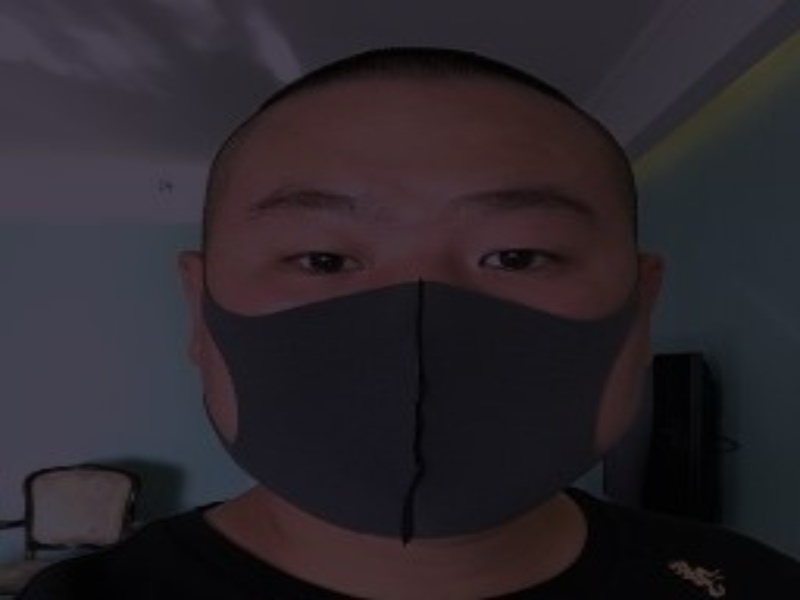ManaoArotava: (167, 43, 672, 571)
